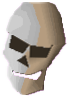skull: (1, 1, 68, 98)
